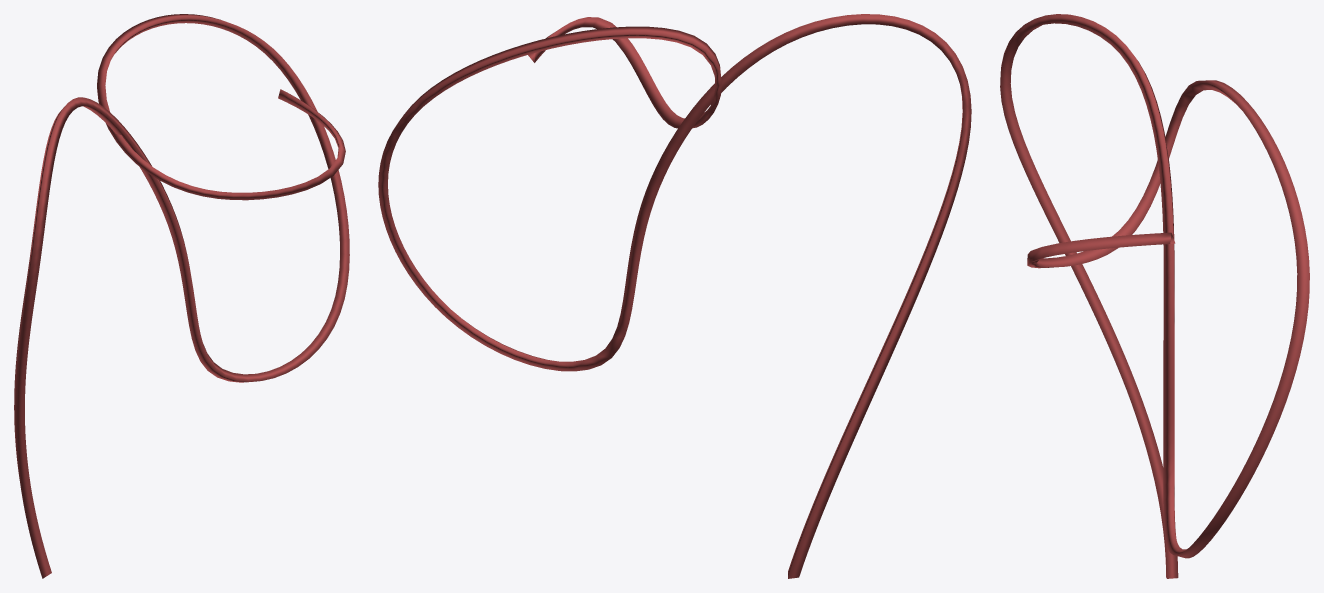
The model's file is wireOneWild.fbx.
The picture shows the model from 3 angles, left to right: view 1: azimuth 30°, elevation 25°; view 2: azimuth 150°, elevation 25°; view 3: azimuth 270°, elevation 25°; orthographic projection. The views are drawn at different scales.
Parts seen in each view (by area): view 1: extrudedSurface12; view 2: extrudedSurface12; view 3: extrudedSurface12.
Boxes of the visible parts, <box> form: extrudedSurface12: <box>14,14,349,578</box>; extrudedSurface12: <box>378,14,971,578</box>; extrudedSurface12: <box>1000,14,1309,578</box>.
Bounding box in the file's own units: 53.43 × 59.95 × 30.58.
